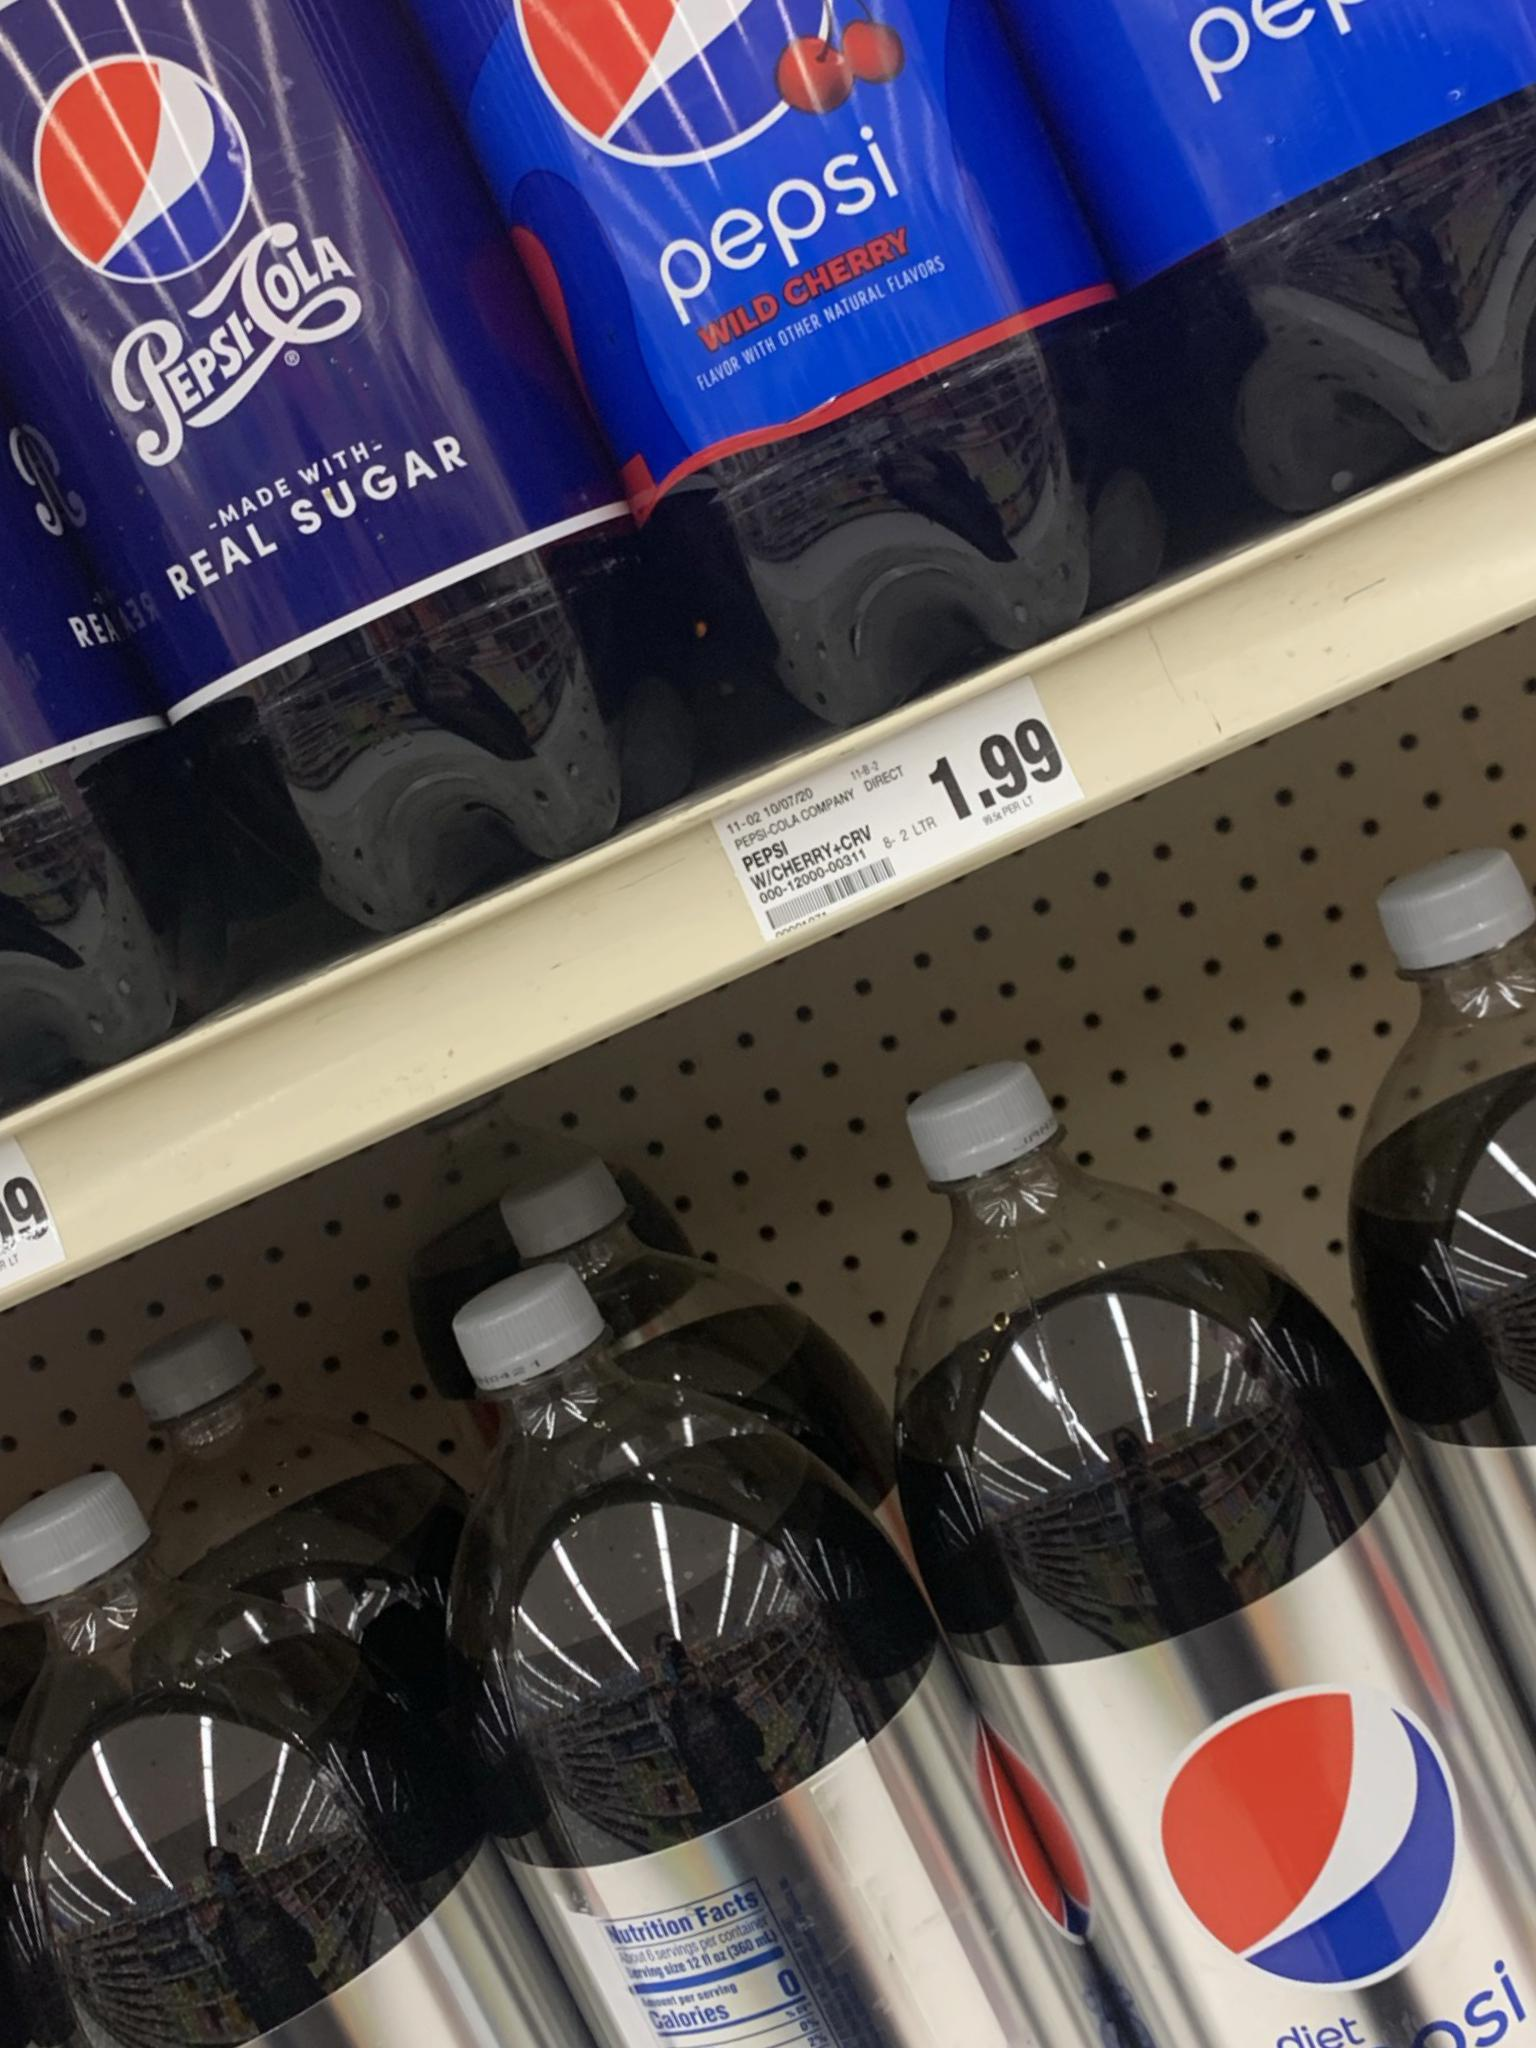soda: (789, 1109, 1536, 2048), (2, 2, 774, 776)
